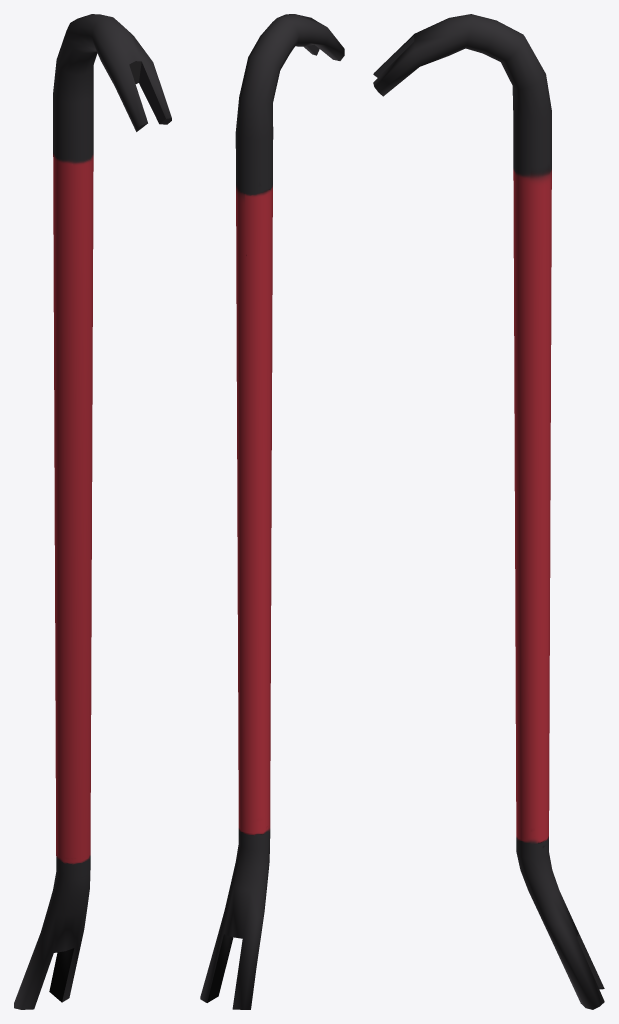
The model's file is Crowbar.fbx.
3 renders of one model, left to right at view 1: azimuth 30°, elevation 25°; view 2: azimuth 150°, elevation 25°; view 3: azimuth 270°, elevation 25°, orthographic. The views are drawn at different scales.
Parts seen in each view (by area): view 1: Crowbar; view 2: Crowbar; view 3: Crowbar.
Part boxes in pixels (left/top/right/bottom): Crowbar: left=14, top=14, right=171, bottom=1009; Crowbar: left=200, top=14, right=344, bottom=1009; Crowbar: left=373, top=14, right=604, bottom=1009.
Size of the model in its own units: 4 by 71.01 by 15.19.
